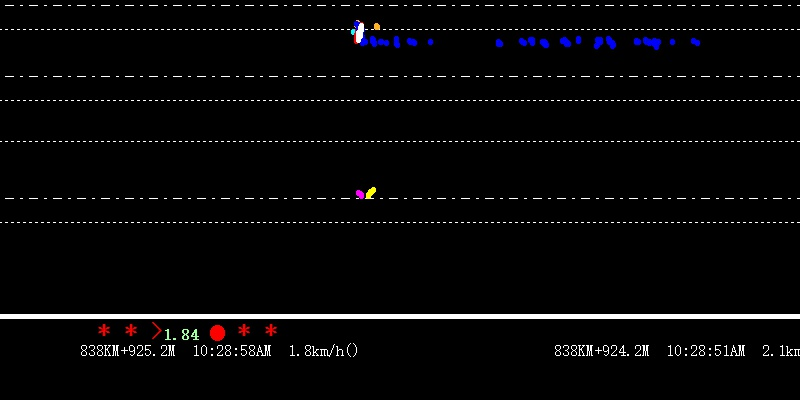circle: (208, 324, 225, 343)
face_1: (367, 15, 386, 35)
face_2: (347, 16, 368, 59)
star: (262, 320, 277, 337), (98, 321, 111, 339), (237, 320, 250, 337), (123, 323, 137, 335)
